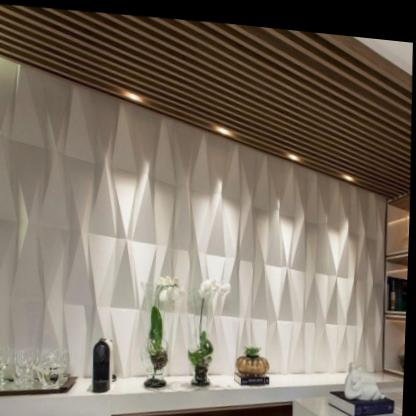Futech tiles: (211, 171, 392, 359)
